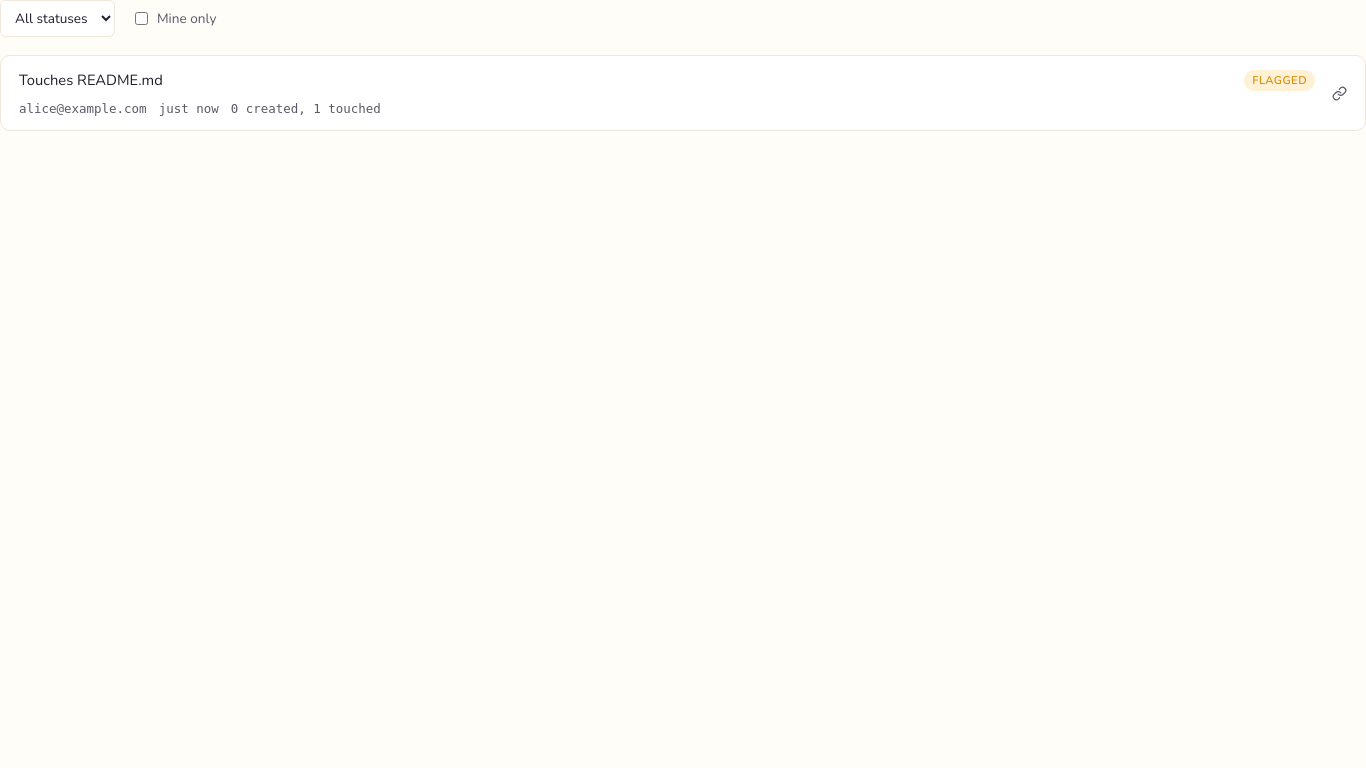
DesignsView › a flagged design's expanded detail shows why it was flagged (fetched from its own design_checked activity event)
Click the button "Touches README.md". click: (91,80)
box: x1=1 y1=56 x2=1365 y2=130
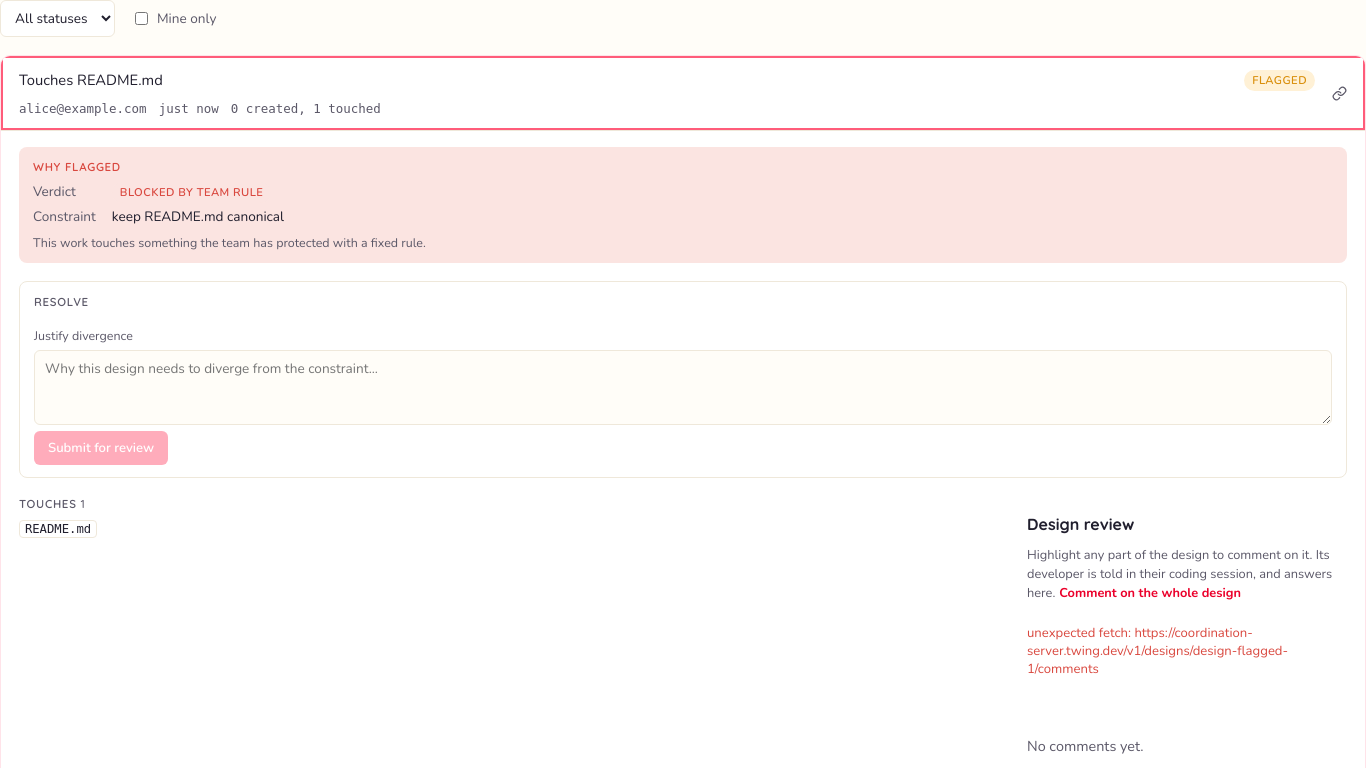
Expected: the heading "Why flagged" is shown, x1=33 y1=159 x2=121 y2=174
Expected: the text "keep README.md canonical" is shown, x1=112 y1=207 x2=284 y2=226
Expected: the heading "Resolve" is shown, x1=34 y1=294 x2=89 y2=309
